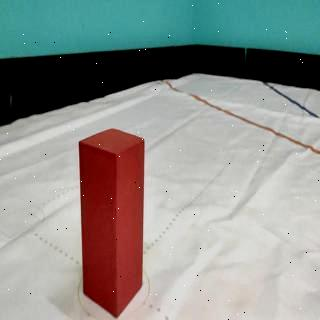redbox: (78, 127, 145, 320)
